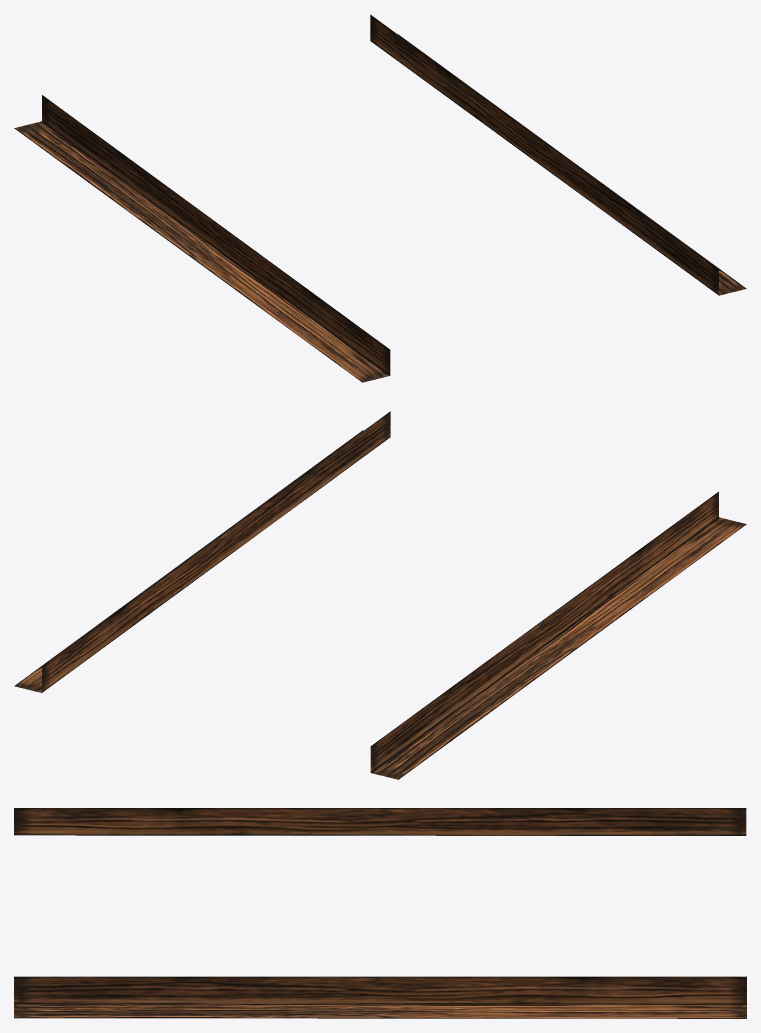
File: LAKETOWN_WAREHOUSE2_PS_WH2_BEAMS_373757.fbx
3 views of the same model, one above another, from view 1: azimuth 30°, elevation 25°; view 2: azimuth 150°, elevation 25°; view 3: azimuth 270°, elevation 25° (orthographic). The views are drawn at different scales.
Parts seen in each view (by area): view 1: LAKETOWN_WAREHOUSE2_PS_WH2_BEAMS_373757; view 2: LAKETOWN_WAREHOUSE2_PS_WH2_BEAMS_373757; view 3: LAKETOWN_WAREHOUSE2_PS_WH2_BEAMS_373757.
Part boxes in pixels (<box>): LAKETOWN_WAREHOUSE2_PS_WH2_BEAMS_373757: <box>14,14,746,382</box>; LAKETOWN_WAREHOUSE2_PS_WH2_BEAMS_373757: <box>14,411,746,779</box>; LAKETOWN_WAREHOUSE2_PS_WH2_BEAMS_373757: <box>14,808,746,1018</box>.
Size of the model in its own units: 23858 by 1585 by 37496.
Materials: 1 (1 with a texture image).
